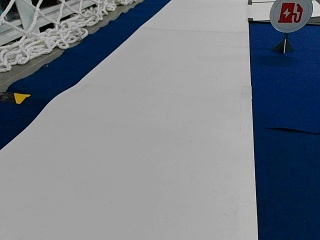battery: (268, 0, 312, 32)
